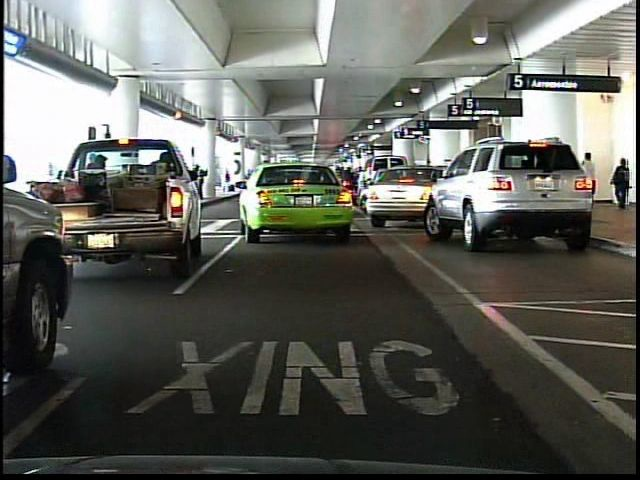person: (612, 158, 636, 215)
